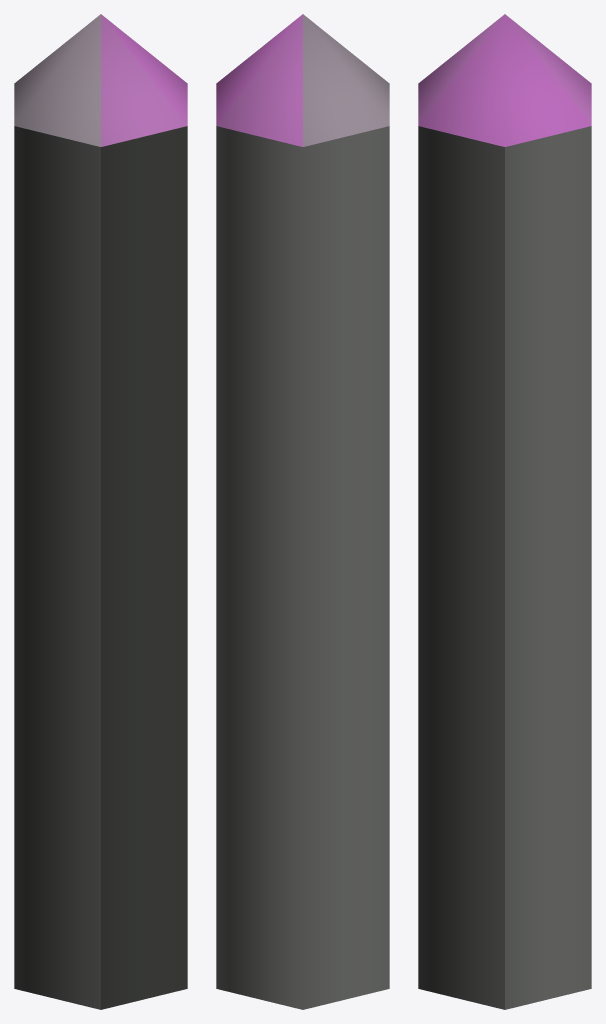
The model's file is Solo.RocketMesh.GreySky.glb.
3 views of the same model, side by side, from view 1: azimuth 30°, elevation 25°; view 2: azimuth 150°, elevation 25°; view 3: azimuth 270°, elevation 25° (orthographic).
Visible parts, largest first — view 1: Solo.RocketMesh.GreySky; view 2: Solo.RocketMesh.GreySky; view 3: Solo.RocketMesh.GreySky.
Part boxes in pixels (x1,y1,x2,y2): Solo.RocketMesh.GreySky: (14, 14, 187, 1009); Solo.RocketMesh.GreySky: (216, 14, 389, 1009); Solo.RocketMesh.GreySky: (418, 14, 591, 1009).
Size of the model in its own units: 0.2 by 1.05 by 0.1732.
Materials: 1 (1 with a texture image).
